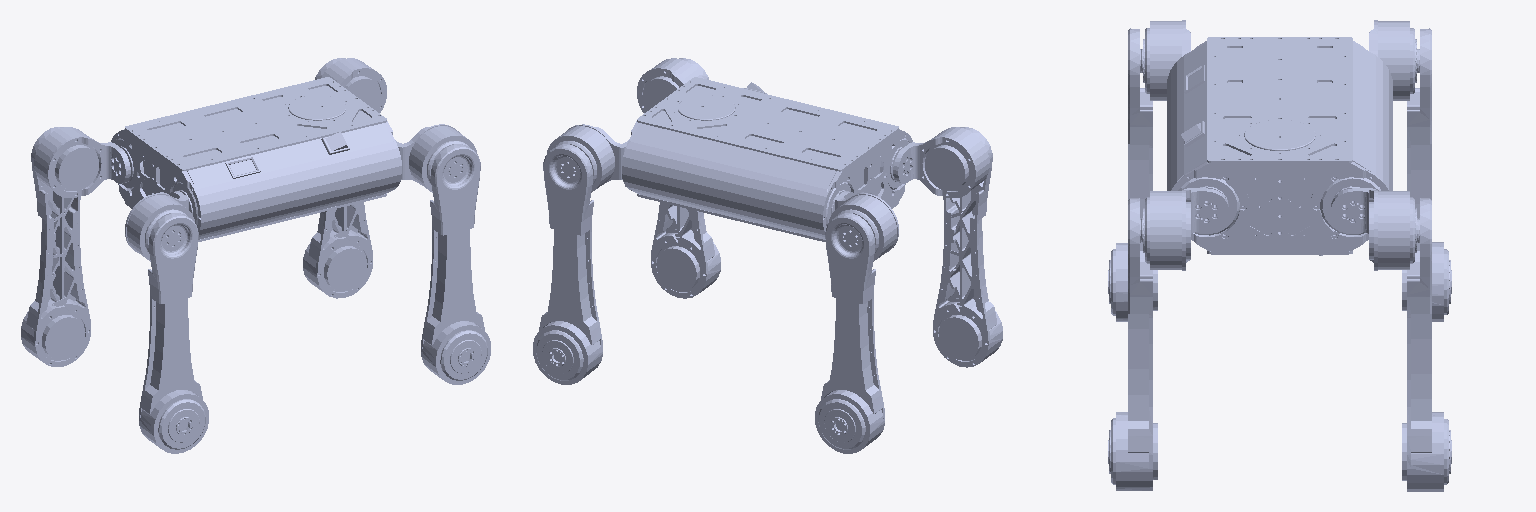
The robot description file, URDF, robot "lion":
<?xml version="1.0" ?>
<!-- =================================================================================== -->
<!-- |    This document was autogenerated by xacro from lion.xacro                     | -->
<!-- |    EDITING THIS FILE BY HAND IS NOT RECOMMENDED                                 | -->
<!-- =================================================================================== -->
<robot name="lion">
  <!--Robot Model*******************************************************************************************-->
  <link name="base_link">
    <inertial>
      <origin rpy="0 0 0" xyz="-0.000638750070817345 -0.00672058356158241 -0.00556735378698432"/>
      <mass value="8.286"/>
      <inertia ixx="0.056529" ixy="-0.001107" ixz="-3.045E-05" iyy="0.14156" iyz="-0.0011531" izz="0.17939"/>
      </inertial>
    <visual>
      <origin rpy="0 0 0" xyz="0 0 0"/>
      <geometry>
        <mesh filename="meshes/base_link.STL"/>
      </geometry>
      <material name="">
        <color rgba="0.792156862745098 0.819607843137255 0.933333333333333 1"/>
      </material>
    </visual>
    <collision>
      <origin rpy="0 0 0" xyz="0 0 0"/>
      <geometry>
        <mesh filename="meshes/base_link.STL"/>
      </geometry>
    </collision>
  </link>
  <link name="LegFR_hip">
    <inertial>
      <origin rpy="0 0 0" xyz="-0.0050797 -0.047183 4.172E-05"/>
      <mass value="1.095"/>
      <inertia ixx="0.0010035" ixy="-0.00021789" ixz="1.433E-06" iyy="0.0014762" iyz="1.005E-06" izz="0.0012507"/>
    </inertial>
    <visual>
      <origin rpy="0 0 0" xyz="0 0 0"/>
      <geometry>
        <mesh filename="meshes/hip_Link.STL"/>
      </geometry>
      <material name="">
        <color rgba="0.79216 0.81961 0.93333 1"/>
      </material>
    </visual>
    <collision>
      <origin rpy="0 0 0" xyz="0 0 0"/>
      <geometry>
        <mesh filename="meshes/hip_Link.STL"/>
      </geometry>
    </collision>
  </link>
  <joint name="JointFR_abad" type="revolute">
    <origin rpy="0.0 0.0 0 " xyz="0.2467 -0.09 0"/>
    <parent link="base_link"/>
    <child link="LegFR_hip"/>
    <axis xyz="1 0 0"/>
    <limit effort="55" lower="-3.0" upper="3.0" velocity="30"/>
  </joint>
  <link name="LegFR_thigh">
    <inertial>''
      <origin rpy="0 0 0" xyz="-2.7705E-05 -0.089684 -0.23198"/>
      <mass value="1.556"/>
      <inertia ixx="0.015631" ixy="-8.61E-07" ixz="-6.078E-06" iyy="0.016183" iyz="0.0004689" izz="0.0011163"/>
    </inertial>
    <visual>
      <origin rpy="0 0 0" xyz="0 0 0"/>
      <geometry>
        <mesh filename="meshes/thigh_Link.STL"/>
      </geometry>
      <material name="">
        <color rgba="0.79216 0.81961 0.93333 1"/>
      </material>
    </visual>
    <collision>
      <origin rpy="0 0 0" xyz="0 0 0"/>
      <geometry>
        <mesh filename="meshes/thigh_Link.STL"/>
      </geometry>
    </collision>
  </link>
  <joint name="JointFR_hip" type="revolute">
    <origin rpy="0 0.0 0" xyz="0 0 0"/>
    <parent link="LegFR_hip"/>
    <child link="LegFR_thigh"/>
    <axis xyz="0 -1 0"/>
    <limit effort="55" lower="-3.0" upper="3.0" velocity="30"/>
  </joint>
  <link name="LegFR_shank">
    <inertial>
      <origin rpy="0 0 0" xyz="2.05E-06 -0.12517 -0.080832"/>
      <mass value="0.233"/>
      <inertia ixx="0.0033053" ixy="-3.64E-07" ixz="4.028E-06" iyy="0.0033126" iyz="-0.00013194" izz="4.3236E-05"/>
    </inertial>
    <visual>
      <origin rpy="0 0 0" xyz="0 0 0"/>
      <geometry>
        <mesh filename="meshes/shank_Link.STL"/>
      </geometry>
      <material name="">
        <color rgba="0.79216 0.81961 0.93333 1"/>
      </material>
    </visual>
    <collision>
      <origin rpy="0 0 0" xyz="0 0 0"/>
      <geometry>
        <mesh filename="meshes/shank_Link.STL"/>
      </geometry>
    </collision>
  </link>
  <joint name="JointFR_knee" type="revolute">
    <origin rpy="0 0 0" xyz="0 0 -0.3"/>
    <parent link="LegFR_thigh"/>
    <child link="LegFR_shank"/>
    <axis xyz="0 -1 0"/>
    <limit effort="55" lower="-3.0" upper="3.0" velocity="30"/>
  </joint>
  <link name="LegFR_foot">
  <contact>
      <friction_anchor/>
      <stiffness value="30000.0"/>
      <damping value="1000.0"/>
      <spinning_friction value="0.3"/>
      <lateral_friction value="3.0"/>
    </contact>
    <inertial>
      <origin rpy="0 0 0" xyz="0.0002617 0.00017365 0.0085579"/>
      <!-- <mass value="0.03946"/> -->
      <mass value="0.01"/>
      <!-- <inertia ixx="1.4527E-05" ixy="-8.5021E-08" ixz="-4.0103E-07" iyy="1.4601E-05" iyz="-2.6548E-07" izz="6.2338E-06"/> -->
      <inertia ixx="0.001983" ixy="0.000245" ixz="0.000013" 
                iyy="0.002103" iyz="0.0000015" izz="0.000408"/>
    </inertial>
    <visual>
      <origin rpy="0 0 0" xyz="0 0 0"/>
      <geometry>
        <mesh filename="meshes/foot_Link.STL"/>
      </geometry>
      <material name="">
        <color rgba="0.79216 0.81961 0.93333 1"/>
      </material>
    </visual>
    <collision>
      <origin rpy="0 0 0" xyz="0 0 0"/>
      <geometry>
        <mesh filename="meshes/foot_Link.STL"/>
      </geometry>
    </collision>
  </link>
  <joint name="JointFR_foot" type="fixed">
    <origin rpy="0 0 0" xyz="0 -0.119 -0.3105"/>
    <parent link="LegFR_shank"/>
    <child link="LegFR_foot"/>
    <axis xyz="0 0 1"/>

  </joint>
  <link name="LegFL_hip">
    <inertial>
      <origin rpy="0 0 0" xyz="-0.0050797 -0.047183 4.172E-05"/>
      <!-- <mass value="0.39498"/> -->
      <mass value="1.095"/>
      <inertia ixx="0.0010035" ixy="-0.00021789" ixz="1.433E-06" iyy="0.0014762" iyz="1.005E-06" izz="0.0012507"/>
    </inertial>
    <visual>
      <origin rpy="0 0 0" xyz="0 0 0"/>
      <geometry>
        <mesh filename="meshes/hip_Link.STL"/>
      </geometry>
      <material name="">
        <color rgba="0.79216 0.81961 0.93333 1"/>
      </material>
    </visual>
    <collision>
      <origin rpy="0 0 0" xyz="0 0 0"/>
      <geometry>
        <mesh filename="meshes/hip_Link.STL"/>
      </geometry>
    </collision>
  </link>
  <joint name="JointFL_abad" type="revolute">
    <origin rpy="3.141592653589793 0.0 0 " xyz="0.2467 0.09 0"/>
    <parent link="base_link"/>
    <child link="LegFL_hip"/>
    <axis xyz="1 0 0"/>
    <limit effort="55" lower="-3.0" upper="3.0" velocity="30"/>
  </joint>
  <link name="LegFL_thigh">
    <inertial>
      <origin rpy="0 0 0" xyz="-2.7705E-05 -0.089684 -0.23198"/>
      <mass value="1.556"/>
      <inertia ixx="0.015631" ixy="-8.61E-07" ixz="-6.078E-06" iyy="0.016183" iyz="0.0004689" izz="0.0011163"/>
    </inertial>
    <visual>
      <origin rpy="0 0 0" xyz="0 0 0"/>
      <geometry>
        <mesh filename="meshes/thigh_Link.STL"/>
      </geometry>
      <material name="">
        <color rgba="0.79216 0.81961 0.93333 1"/>
      </material>
    </visual>
    <collision>
      <origin rpy="0 0 0" xyz="0 0 0"/>
      <geometry>
        <mesh filename="meshes/thigh_Link.STL"/>
      </geometry>
    </collision>
  </link>
  <joint name="JointFL_hip" type="revolute">
    <origin rpy="0 3.141592653589793 0" xyz="0 0 0"/>
    <parent link="LegFL_hip"/>
    <child link="LegFL_thigh"/>
    <axis xyz="0 1 0"/>
    <limit effort="55" lower="-3.0" upper="3.0" velocity="30"/>
  </joint>
  <link name="LegFL_shank">
    <inertial>
      <origin rpy="0 0 0" xyz="2.05E-06 -0.12517 -0.080832"/>
      <mass value="0.233"/>
      <inertia ixx="0.0033053" ixy="-3.64E-07" ixz="4.028E-06" iyy="0.0033126" iyz="-0.00013194" izz="4.3236E-05"/>
    </inertial>
    <visual>
      <origin rpy="0 0 0" xyz="0 0 0"/>
      <geometry>
        <mesh filename="meshes/shank_Link.STL"/>
      </geometry>
      <material name="">
        <color rgba="0.79216 0.81961 0.93333 1"/>
      </material>
    </visual>
    <collision>
      <origin rpy="0 0 0" xyz="0 0 0"/>
      <geometry>
        <mesh filename="meshes/shank_Link.STL"/>
      </geometry>
    </collision>
  </link>
  <joint name="JointFL_knee" type="revolute">
    <origin rpy="0 0 0" xyz="0 0 -0.3"/>
    <parent link="LegFL_thigh"/>
    <child link="LegFL_shank"/>
    <axis xyz="0 1 0"/>
    <limit effort="55" lower="-3.0" upper="3.0" velocity="30"/>
  </joint>
  <link name="LegFL_foot">
  <contact>
      <friction_anchor/>
      <stiffness value="30000.0"/>
      <damping value="1000.0"/>
      <spinning_friction value="0.3"/>
      <lateral_friction value="3.0"/>
    </contact>
    <inertial>
      <origin rpy="0 0 0" xyz="0.0002617 0.00017365 0.0085579"/>
      <!-- <mass value="0.03946"/> -->
      <mass value="0.01"/>
      <!-- <inertia ixx="1.4527E-05" ixy="-8.5021E-08" ixz="-4.0103E-07" iyy="1.4601E-05" iyz="-2.6548E-07" izz="6.2338E-06"/> -->
      <inertia ixx="0.001983" ixy="0.000245" ixz="0.000013" 
                iyy="0.002103" iyz="0.0000015" izz="0.000408"/>
    </inertial>
    <visual>
      <origin rpy="0 0 0" xyz="0 0 0"/>
      <geometry>
        <mesh filename="meshes/foot_Link.STL"/>
      </geometry>
      <material name="">
        <color rgba="0.79216 0.81961 0.93333 1"/>
      </material>
    </visual>
    <collision>
      <origin rpy="0 0 0" xyz="0 0 0"/>
      <geometry>
        <mesh filename="meshes/foot_Link.STL"/>
      </geometry>
    </collision>
  </link>
  <joint name="JointFL_foot" type="fixed">
    <origin rpy="0 0 0" xyz="0 -0.119 -0.3105"/>
    <parent link="LegFL_shank"/>
    <child link="LegFL_foot"/>
    <axis xyz="0 0 1"/>

  </joint>
  <link name="LegHR_hip">
    <inertial>
      <origin rpy="0 0 0" xyz="-0.0050797 -0.047183 4.172E-05"/>
      <mass value="1.095"/>
      <inertia ixx="0.0010035" ixy="-0.00021789" ixz="1.433E-06" iyy="0.0014762" iyz="1.005E-06" izz="0.0012507"/>
    </inertial>
    <visual>
      <origin rpy="0 0 0" xyz="0 0 0"/>
      <geometry>
        <mesh filename="meshes/hip_Link.STL"/>
      </geometry>
      <material name="">
        <color rgba="0.79216 0.81961 0.93333 1"/>
      </material>
    </visual>
    <collision>
      <origin rpy="0 0 0" xyz="0 0 0"/>
      <geometry>
        <mesh filename="meshes/hip_Link.STL"/>
      </geometry>
    </collision>
  </link>
  <joint name="JointHR_abad" type="revolute">
    <origin rpy="0.0 3.141592653589793 0 " xyz="-0.2467 -0.09 0"/>
    <parent link="base_link"/>
    <child link="LegHR_hip"/>
    <axis xyz="-1 0 0"/>
    <limit effort="55" lower="-3.0" upper="3.0" velocity="30"/>
  </joint>
  <link name="LegHR_thigh">
    <inertial>
      <origin rpy="0 0 0" xyz="-2.7705E-05 -0.089684 -0.23198"/>
      <mass value="1.556"/>
      <inertia ixx="0.015631" ixy="-8.61E-07" ixz="-6.078E-06" iyy="0.016183" iyz="0.0004689" izz="0.0011163"/>
    </inertial>
    <visual>
      <origin rpy="0 0 0" xyz="0 0 0"/>
      <geometry>
        <mesh filename="meshes/thigh_Link.STL"/>
      </geometry>
      <material name="">
        <color rgba="0.79216 0.81961 0.93333 1"/>
      </material>
    </visual>
    <collision>
      <origin rpy="0 0 0" xyz="0 0 0"/>
      <geometry>
        <mesh filename="meshes/thigh_Link.STL"/>
      </geometry>
    </collision>
  </link>
  <joint name="JointHR_hip" type="revolute">
    <origin rpy="0 3.141592653589793 0" xyz="0 0 0"/>
    <parent link="LegHR_hip"/>
    <child link="LegHR_thigh"/>
    <axis xyz="0 -1 0"/>
    <limit effort="55" lower="-3.0" upper="3.0" velocity="30"/>
  </joint>
  <link name="LegHR_shank">
    <inertial>
      <origin rpy="0 0 0" xyz="2.05E-06 -0.12517 -0.080832"/>
      <mass value="0.233"/>
      <inertia ixx="0.0033053" ixy="-3.64E-07" ixz="4.028E-06" iyy="0.0033126" iyz="-0.00013194" izz="4.3236E-05"/>
    </inertial>
    <visual>
      <origin rpy="0 0 0" xyz="0 0 0"/>
      <geometry>
        <mesh filename="meshes/shank_Link.STL"/>
      </geometry>
      <material name="">
        <color rgba="0.79216 0.81961 0.93333 1"/>
      </material>
    </visual>
    <collision>
      <origin rpy="0 0 0" xyz="0 0 0"/>
      <geometry>
        <mesh filename="meshes/shank_Link.STL"/>
      </geometry>
    </collision>
  </link>
  <joint name="JointHR_knee" type="revolute">
    <origin rpy="0 0 0" xyz="0 0 -0.3"/>
    <parent link="LegHR_thigh"/>
    <child link="LegHR_shank"/>
    <axis xyz="0 -1 0"/>
    <limit effort="55" lower="-3.0" upper="3.0" velocity="30"/>
  </joint>
  <link name="LegHR_foot">
<contact>
      <friction_anchor/>
      <stiffness value="30000.0"/>
      <damping value="1000.0"/>
      <spinning_friction value="0.3"/>
      <lateral_friction value="3.0"/>
    </contact>
    <inertial>
      <origin rpy="0 0 0" xyz="0.0002617 0.00017365 0.0085579"/>
      <!-- <mass value="0.03946"/> -->
      <mass value="0.01"/>
      <!-- <inertia ixx="1.4527E-05" ixy="-8.5021E-08" ixz="-4.0103E-07" iyy="1.4601E-05" iyz="-2.6548E-07" izz="6.2338E-06"/> -->
      <inertia ixx="0.001983" ixy="0.000245" ixz="0.000013" 
                iyy="0.002103" iyz="0.0000015" izz="0.000408"/>
    </inertial>
    <visual>
      <origin rpy="0 0 0" xyz="0 0 0"/>
      <geometry>
        <mesh filename="meshes/foot_Link.STL"/>
      </geometry>
      <material name="">
        <color rgba="0.79216 0.81961 0.93333 1"/>
      </material>
    </visual>
    <collision>
      <origin rpy="0 0 0" xyz="0 0 0"/>
      <geometry>
        <mesh filename="meshes/foot_Link.STL"/>
      </geometry>
    </collision>
  </link>
  <joint name="JointHR_foot" type="fixed">
    <origin rpy="0 0 0" xyz="0 -0.119 -0.3105"/>
    <parent link="LegHR_shank"/>
    <child link="LegHR_foot"/>
    <axis xyz="0 0 1"/>

  </joint>
  <link name="LegHL_hip">
    <inertial>
      <origin rpy="0 0 0" xyz="-0.0050797 -0.047183 4.172E-05"/>
      <mass value="1.095"/>
      <inertia ixx="0.0010035" ixy="-0.00021789" ixz="1.433E-06" iyy="0.0014762" iyz="1.005E-06" izz="0.0012507"/>
    </inertial>
    <visual>
      <origin rpy="0 0 0" xyz="0 0 0"/>
      <geometry>
        <mesh filename="meshes/hip_Link.STL"/>
      </geometry>
      <material name="">
        <color rgba="0.79216 0.81961 0.93333 1"/>
      </material>
    </visual>
    <collision>
      <origin rpy="0 0 0" xyz="0 0 0"/>
      <geometry>
        <mesh filename="meshes/hip_Link.STL"/>
      </geometry>
    </collision>
  </link>
  <joint name="JointHL_abad" type="revolute">
    <origin rpy="3.141592653589793 3.141592653589793 0 " xyz="-0.2467 0.09 0"/>
    <parent link="base_link"/>
    <child link="LegHL_hip"/>
    <axis xyz="-1 0 0"/>
    <limit effort="55" lower="-3.0" upper="3.0" velocity="30"/>
  </joint>
  <link name="LegHL_thigh">
    <inertial>
      <origin rpy="0 0 0" xyz="-2.7705E-05 -0.089684 -0.23198"/>
      <mass value="1.556"/>
      <inertia ixx="0.015631" ixy="-8.61E-07" ixz="-6.078E-06" iyy="0.016183" iyz="0.0004689" izz="0.0011163"/>
    </inertial>
    <visual>
      <origin rpy="0 0 0" xyz="0 0 0"/>
      <geometry>
        <mesh filename="meshes/thigh_Link.STL"/>
      </geometry>
      <material name="">
        <color rgba="0.79216 0.81961 0.93333 1"/>
      </material>
    </visual>
    <collision>
      <origin rpy="0 0 0" xyz="0 0 0"/>
      <geometry>
        <mesh filename="meshes/thigh_Link.STL"/>
      </geometry>
    </collision>
  </link>
  <joint name="JointHL_hip" type="revolute">
    <origin rpy="0 6.283185307179586 0" xyz="0 0 0"/>
    <parent link="LegHL_hip"/>
    <child link="LegHL_thigh"/>
    <axis xyz="0 1 0"/>
    <limit effort="55" lower="-3.0" upper="3.0" velocity="30"/>
  </joint>
  <link name="LegHL_shank">
    <inertial>
      <origin rpy="0 0 0" xyz="2.05E-06 -0.12517 -0.080832"/>
      <mass value="0.233"/>
      <inertia ixx="0.0033053" ixy="-3.64E-07" ixz="4.028E-06" iyy="0.0033126" iyz="-0.00013194" izz="4.3236E-05"/>
    </inertial>
    <visual>
      <origin rpy="0 0 0" xyz="0 0 0"/>
      <geometry>
        <mesh filename="meshes/shank_Link.STL"/>
      </geometry>
      <material name="">
        <color rgba="0.79216 0.81961 0.93333 1"/>
      </material>
    </visual>
    <collision>
      <origin rpy="0 0 0" xyz="0 0 0"/>
      <geometry>
        <mesh filename="meshes/shank_Link.STL"/>
      </geometry>
    </collision>
  </link>
  <joint name="JointHL_knee" type="revolute">
    <origin rpy="0 0 0" xyz="0 0 -0.3"/>
    <parent link="LegHL_thigh"/>
    <child link="LegHL_shank"/>
    <axis xyz="0 1 0"/>
    <limit effort="55" lower="-3.0" upper="3.0" velocity="30"/>
  </joint>
  <link name="LegHL_foot">
  <contact>
      <friction_anchor/>
      <stiffness value="30000.0"/>
      <damping value="1000.0"/>
      <spinning_friction value="0.3"/>
      <lateral_friction value="3.0"/>
    </contact>
    <inertial>
      <origin rpy="0 0 0" xyz="0.0002617 0.00017365 0.0085579"/>
      <!-- <mass value="0.03946"/> -->
      <mass value="0.01"/>
      <!-- <inertia ixx="1.4527E-05" ixy="-8.5021E-08" ixz="-4.0103E-07" iyy="1.4601E-05" iyz="-2.6548E-07" izz="6.2338E-06"/> -->
      <inertia ixx="0.001983" ixy="0.000245" ixz="0.000013" 
                iyy="0.002103" iyz="0.0000015" izz="0.000408"/>
    </inertial>
    <visual>
      <origin rpy="0 0 0" xyz="0 0 0"/>
      <geometry>
        <mesh filename="meshes/foot_Link.STL"/>
      </geometry>
      <material name="">
        <color rgba="0.79216 0.81961 0.93333 1"/>
      </material>
    </visual>
    <collision>
      <origin rpy="0 0 0" xyz="0 0 0"/>
      <geometry>
        <mesh filename="meshes/foot_Link.STL"/>
      </geometry>
    </collision>
  </link>
  <joint name="JointHL_foot" type="fixed">
    <origin rpy="0 0 0" xyz="0 -0.119 -0.3105"/>
    <parent link="LegHL_shank"/>
    <child link="LegHL_foot"/>
    <axis xyz="0 0 1"/>
    
  </joint>
</robot>

--- What the picture shows (computed from the rendered views, not written in the file) ---
Views: 3 orthographic renders of the robot side by side, from view 1: azimuth 30°, elevation 25°; view 2: azimuth 150°, elevation 25°; view 3: azimuth 270°, elevation 25°.
Model lion with 17 links and 16 joints (12 revolute, 4 fixed), rooted at base_link, posed all joints at 0.
Links seen in each view (by area): view 1: base_link, LegFR_thigh, LegHR_thigh, LegHL_thigh, LegFL_thigh, LegHL_hip, LegFR_hip, LegHR_hip, LegFL_hip; view 2: base_link, LegFL_thigh, LegHL_thigh, LegHR_thigh, LegFR_thigh, LegHR_hip, LegFL_hip, LegHL_hip, LegFR_hip; view 3: base_link, LegFL_thigh, LegFR_thigh, LegFR_hip, LegFL_hip, LegHL_thigh, LegHR_thigh, LegHR_hip, LegHL_hip.
Link boxes in pixels (x1=…): base_link: x1=111, y1=77, x2=401, y2=241; LegFR_thigh: x1=421, y1=144, x2=490, y2=384; LegHR_thigh: x1=139, y1=213, x2=208, y2=453; LegHL_thigh: x1=21, y1=127, x2=90, y2=366; LegFL_thigh: x1=303, y1=58, x2=372, y2=298; LegHL_hip: x1=34, y1=127, x2=130, y2=197; LegFR_hip: x1=395, y1=124, x2=477, y2=192; LegHR_hip: x1=125, y1=191, x2=194, y2=261; LegFL_hip: x1=320, y1=58, x2=386, y2=112; base_link: x1=622, y1=77, x2=912, y2=241; LegFL_thigh: x1=533, y1=144, x2=602, y2=384; LegHL_thigh: x1=815, y1=213, x2=884, y2=453; LegHR_thigh: x1=933, y1=127, x2=1002, y2=367; LegFR_thigh: x1=651, y1=58, x2=720, y2=298; LegHR_hip: x1=893, y1=127, x2=989, y2=197; LegFL_hip: x1=547, y1=124, x2=628, y2=192; LegHL_hip: x1=828, y1=191, x2=898, y2=261; LegFR_hip: x1=637, y1=58, x2=703, y2=112; base_link: x1=1167, y1=37, x2=1392, y2=255; LegFL_thigh: x1=1402, y1=198, x2=1451, y2=491; LegFR_thigh: x1=1108, y1=198, x2=1157, y2=490; LegFR_hip: x1=1141, y1=188, x2=1228, y2=270; LegFL_hip: x1=1331, y1=188, x2=1418, y2=270; LegHL_thigh: x1=1402, y1=28, x2=1451, y2=321; LegHR_thigh: x1=1108, y1=28, x2=1157, y2=321; LegHR_hip: x1=1141, y1=20, x2=1190, y2=100; LegHL_hip: x1=1369, y1=20, x2=1418, y2=100.
Bounding box of the posed robot: 0.593 × 0.424 × 0.4195 m (x, y, z).
Meshes: 5 distinct files referenced, 9 mesh visuals loaded (3 binary STL); not drawn: 8 (reference not matched to a file when rendering).